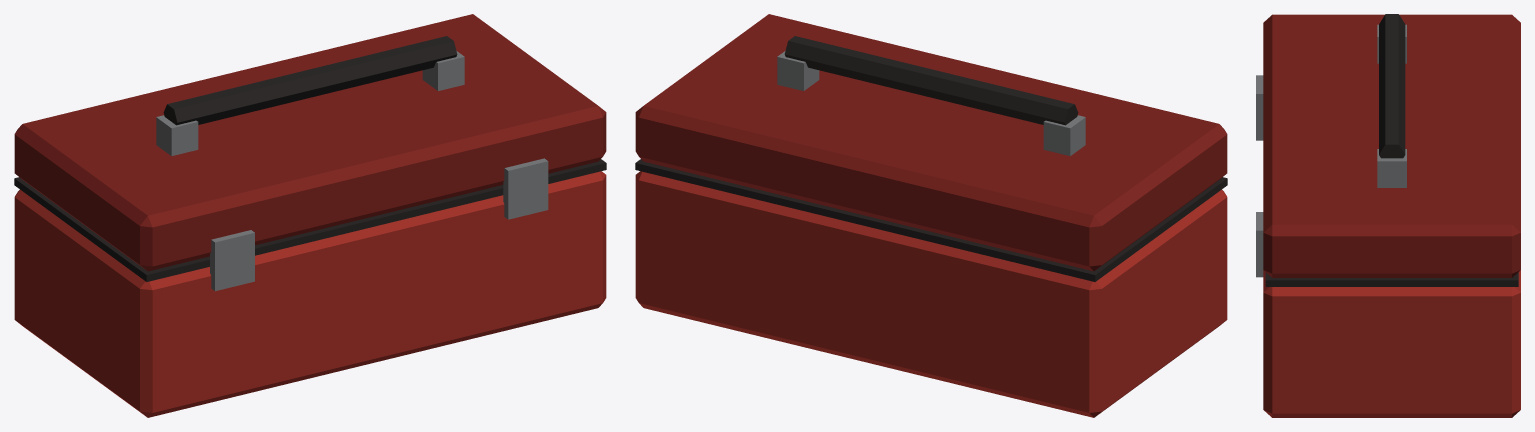
File: toolbox.glb
The picture shows the model from 3 angles, left to right: view 1: azimuth 30°, elevation 25°; view 2: azimuth 150°, elevation 25°; view 3: azimuth 270°, elevation 25°; orthographic projection. The views are drawn at different scales.
Visible parts, largest first — view 1: toolbox; view 2: toolbox; view 3: toolbox.
Part boxes in pixels (x1,y1,x2,y2): toolbox: (14, 14, 606, 417); toolbox: (635, 14, 1227, 417); toolbox: (1256, 14, 1520, 417).
Size of the model in its own units: 0.7 by 0.3507 by 0.36.
